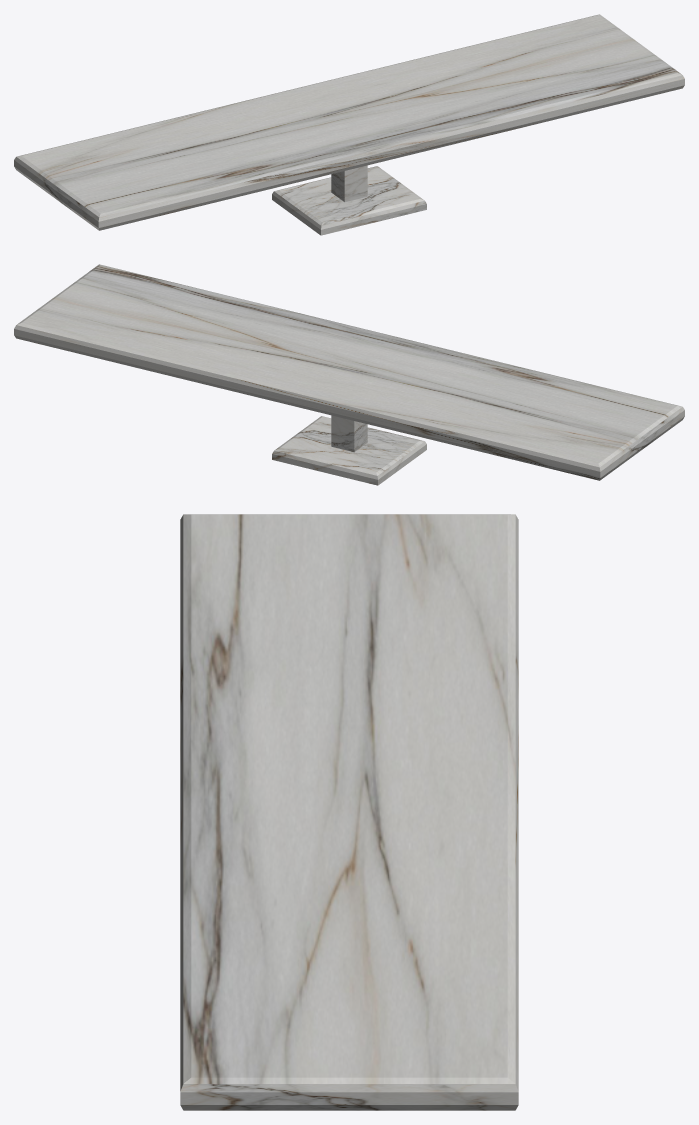
Rendered from Bench.fbx.
The picture shows the model from 3 angles, top to bottom: view 1: azimuth 30°, elevation 25°; view 2: azimuth 150°, elevation 25°; view 3: azimuth 270°, elevation 25°; orthographic projection. The views are drawn at different scales.
Visible parts, largest first — view 1: Cube, Cube.002, Cube.001; view 2: Cube, Cube.002, Cube.001; view 3: Cube.
Part boxes in pixels (bbox=[...]): Cube: bbox=[14, 14, 684, 230]; Cube.002: bbox=[272, 166, 426, 235]; Cube.001: bbox=[331, 165, 367, 202]; Cube: bbox=[14, 264, 684, 480]; Cube.002: bbox=[272, 416, 426, 485]; Cube.001: bbox=[331, 415, 367, 452]; Cube: bbox=[180, 514, 518, 1110].
Bounding box in the file's own units: 6000 × 885 × 1500.
